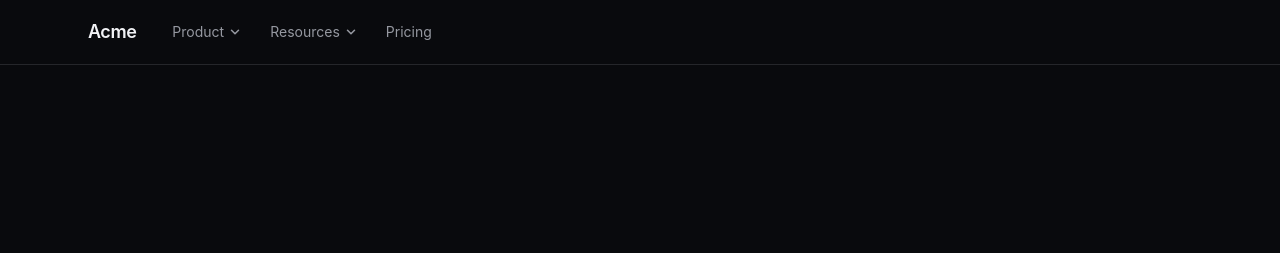
NavbarMega › toggles a panel with the menu button and mirrors it in aria-expanded
expect the link "Editor" is not shown: met
Click the button "Product" at (207, 32), box [160,14,254,50]
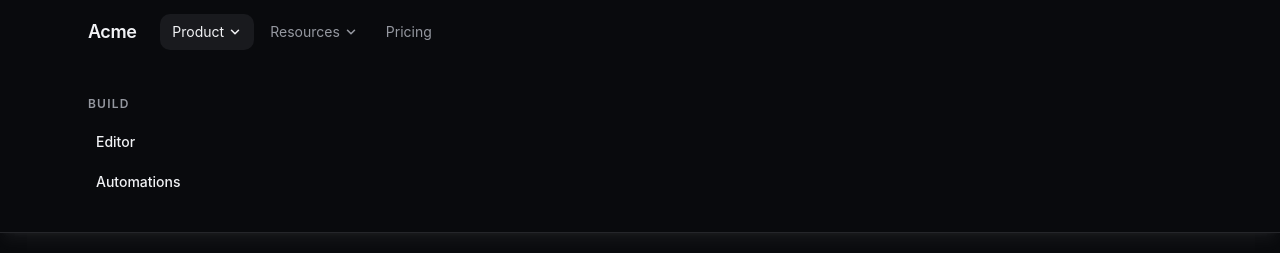
expect the button "Product" is expanded: met
Click the button "Product" at (207, 32), box [160,14,254,50]
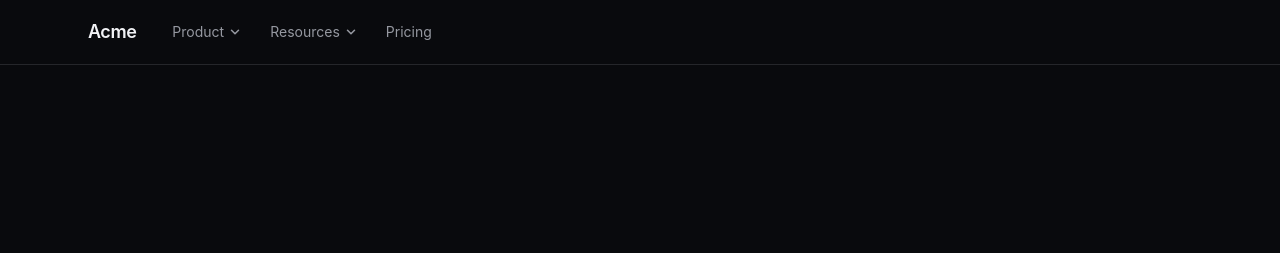
expect the link "Editor" is gone: met
